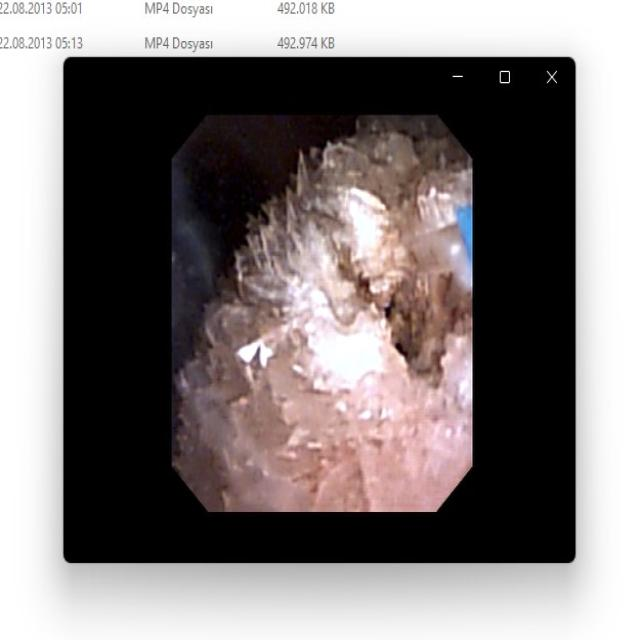stone: (183, 120, 469, 502)
